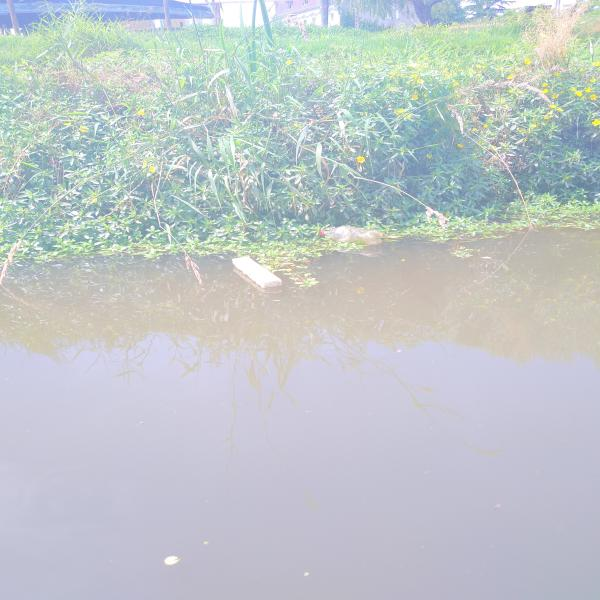bottles: (314, 225, 385, 244)
others: (229, 254, 284, 287)
